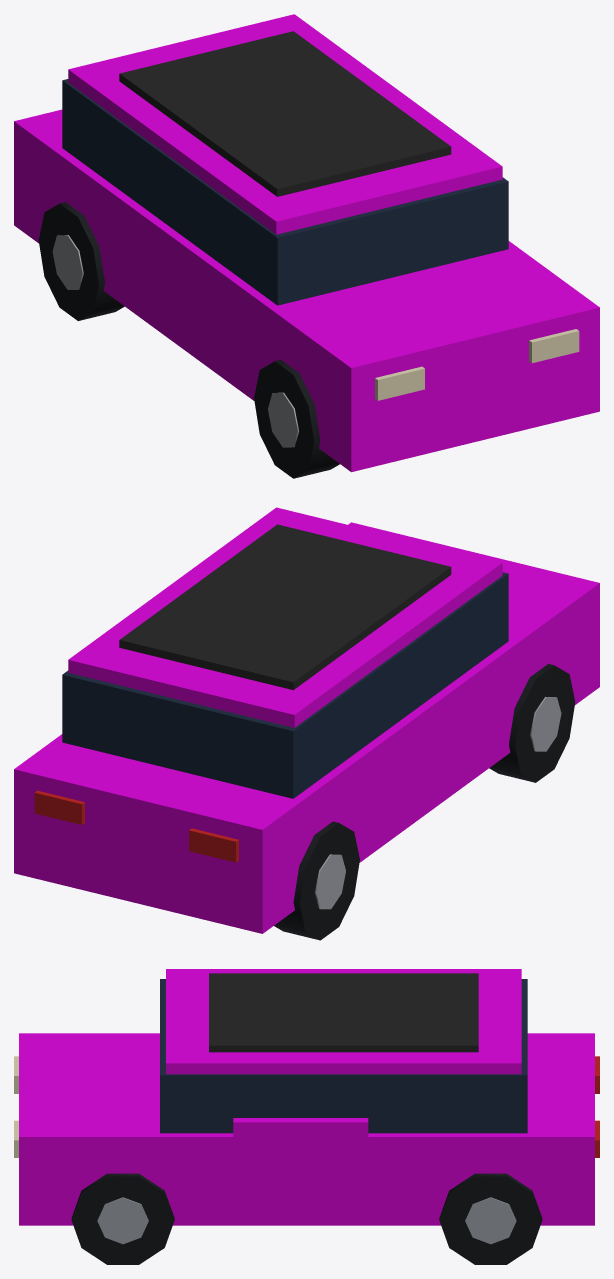
Rendered from suv.glb.
3 views of the same model, one above another, from view 1: azimuth 30°, elevation 25°; view 2: azimuth 150°, elevation 25°; view 3: azimuth 270°, elevation 25° (orthographic). The views are drawn at different scales.
Parts seen in each view (by area): view 1: body; view 2: body; view 3: body, door.
Part boxes in pixels (x1,y1,x2,y2): body: (14,14,599,478); body: (14,507,599,940); body: (14,969,599,1264); door: (233,1118,368,1224).
Size of what is drawn, in the model's own units: 2.12 by 1.81 by 4.78.
